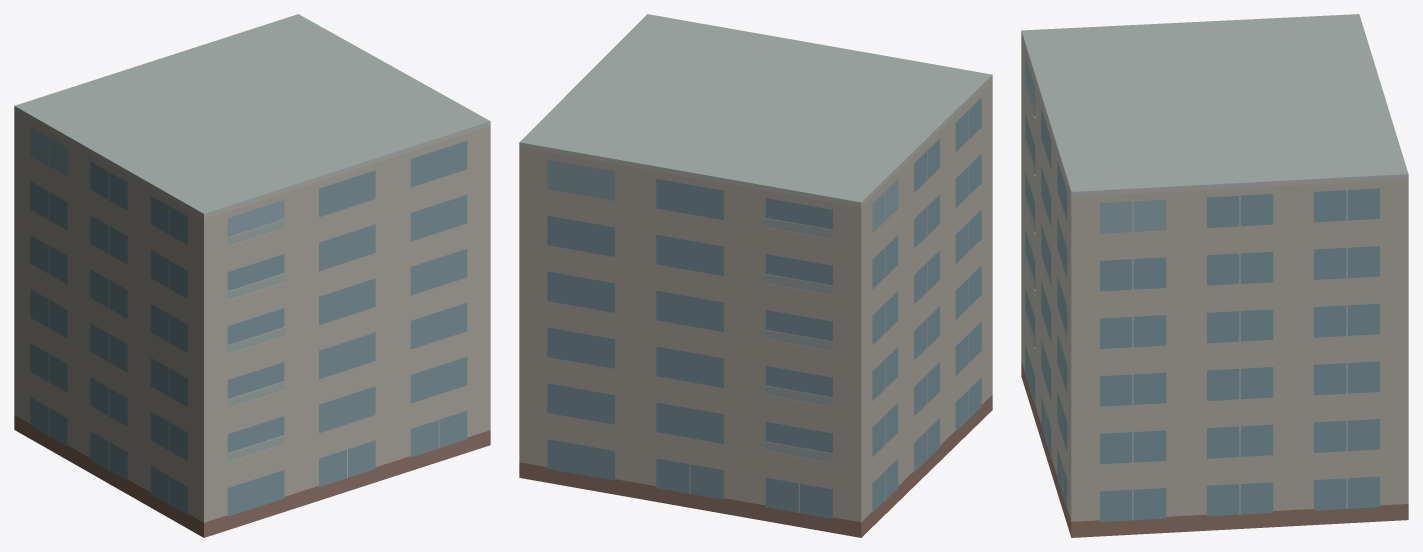
Rendered from survey-upis-32929915.glb.
3 renders of one model, left to right at view 1: azimuth 30°, elevation 25°; view 2: azimuth 150°, elevation 25°; view 3: azimuth 270°, elevation 25°, orthographic. The views are drawn at different scales.
Visible parts, largest first — view 1: survey-upis-32929915.tmp; view 2: survey-upis-32929915.tmp; view 3: survey-upis-32929915.tmp.
Boxes of the visible parts, x1,y1,x2,y2 form: survey-upis-32929915.tmp: [14, 14, 490, 537]; survey-upis-32929915.tmp: [519, 14, 992, 537]; survey-upis-32929915.tmp: [1021, 14, 1408, 537].
Size of the model in its own units: 18.1 by 16.4 by 16.64.
